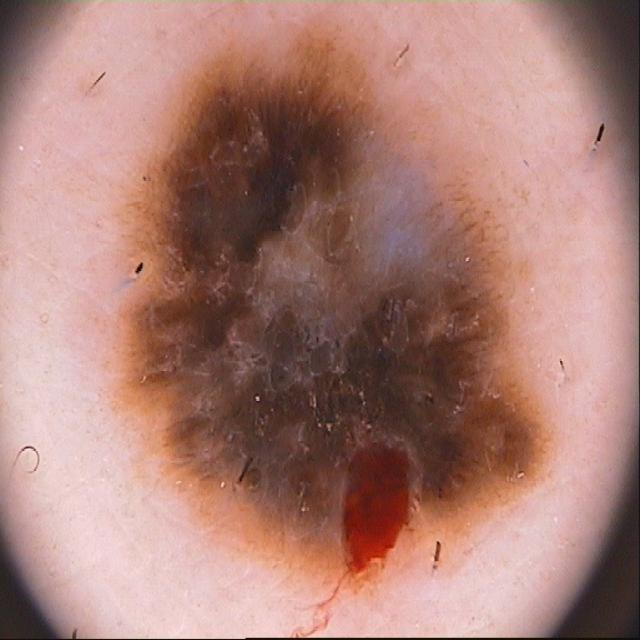Skin-Cancer Nevus: (90, 7, 584, 640)
